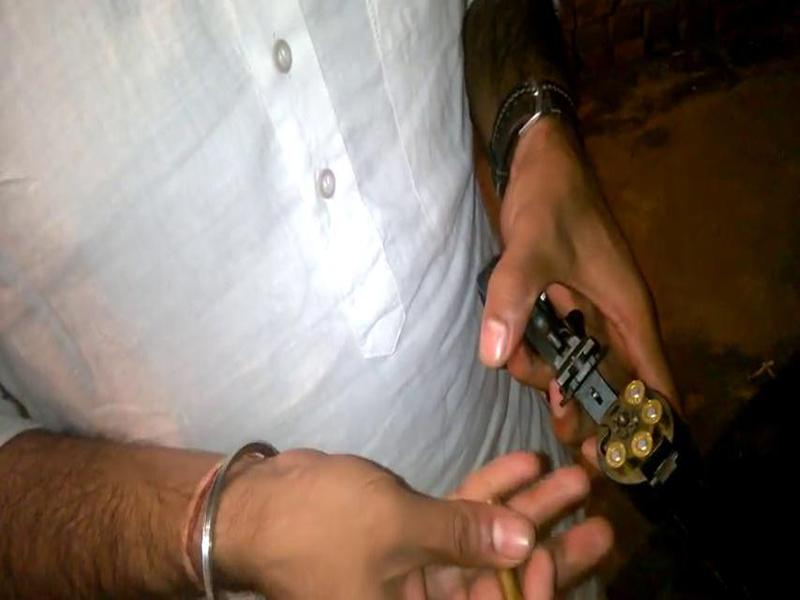Revolver: (475, 278, 769, 587)
